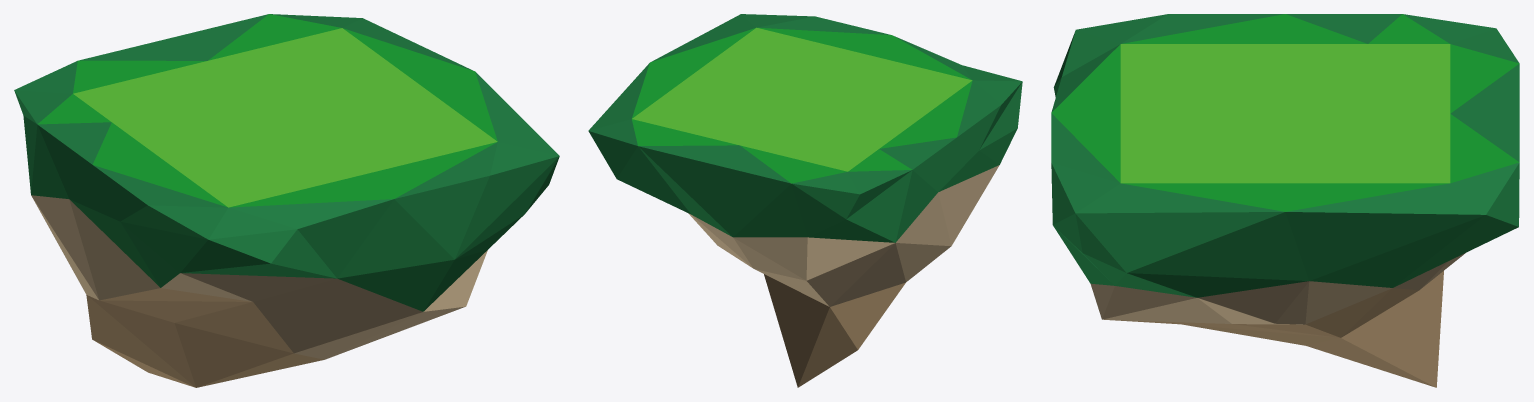
Rendered from mini island.fbx.
3 renders of one model, left to right at view 1: azimuth 30°, elevation 25°; view 2: azimuth 150°, elevation 25°; view 3: azimuth 270°, elevation 25°, orthographic. The views are drawn at different scales.
Parts seen in each view (by area): view 1: Cube; view 2: Cube; view 3: Cube.
Boxes of the visible parts, x1,y1,x2,y2 form: Cube: (14,14,559,387); Cube: (588,14,1022,387); Cube: (1051,14,1519,387).
Size of the model in its own units: 1000 by 727 by 1000.
